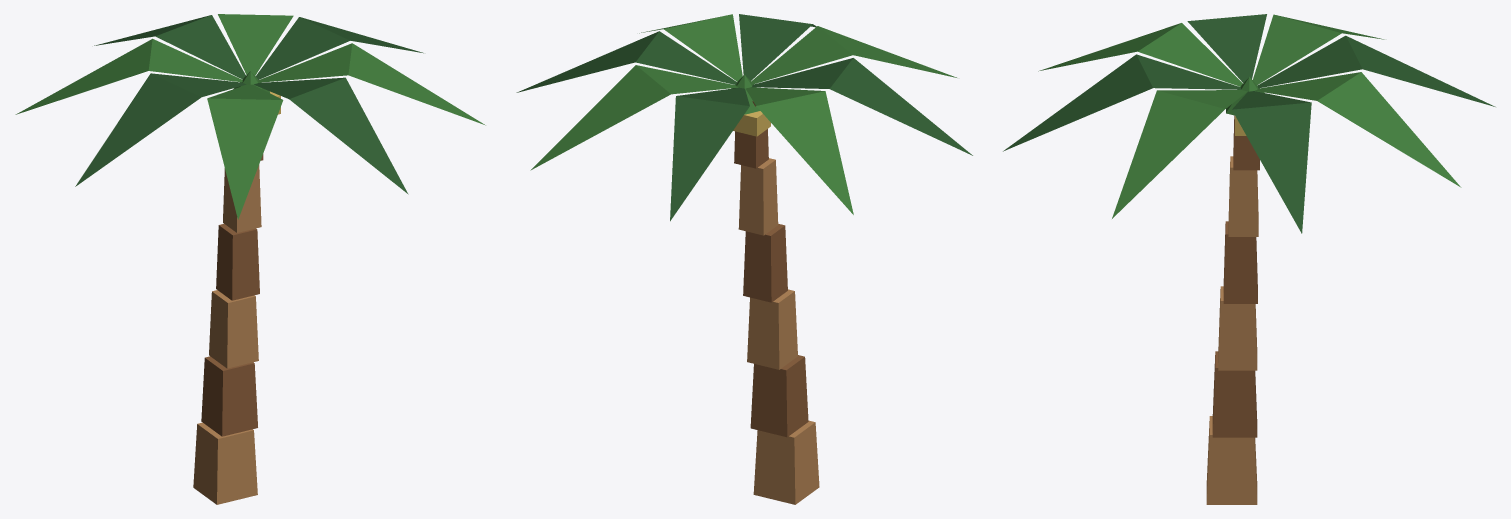
File: palm_tree.fbx
3 renders of one model, left to right at view 1: azimuth 30°, elevation 25°; view 2: azimuth 150°, elevation 25°; view 3: azimuth 270°, elevation 25°, orthographic. The views are drawn at different scales.
Visible parts, largest first — view 1: palm_tree; view 2: palm_tree; view 3: palm_tree.
Boxes of the visible parts, x1,y1,x2,y2 form: palm_tree: (15, 14, 485, 504); palm_tree: (516, 14, 972, 504); palm_tree: (1003, 14, 1495, 504).
Bounding box in the file's own units: 5.09 × 5.1 × 5.09.
